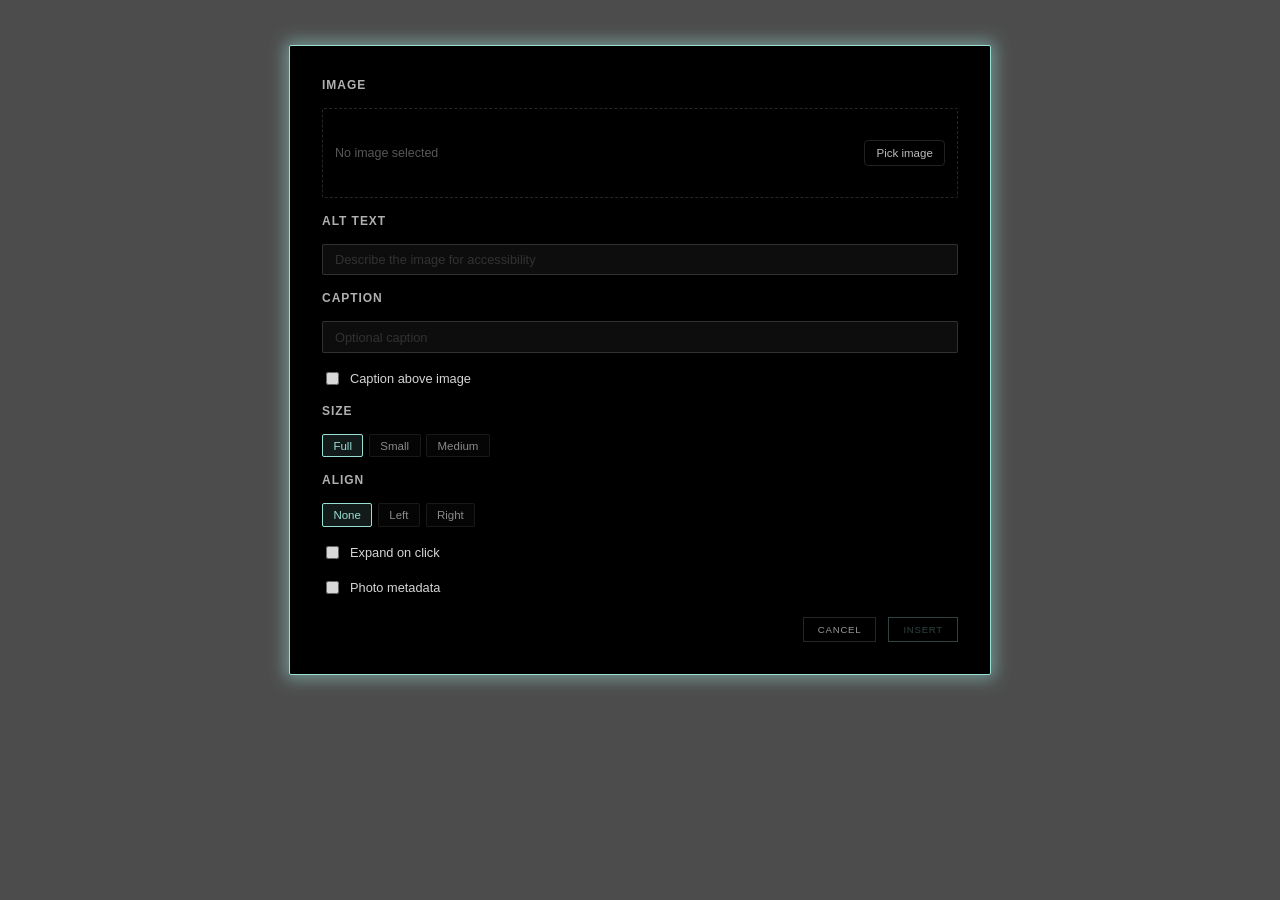
it: ImageInsertModal › shows photo meta inputs when checkbox checked
Click the checkbox with test id "photo-meta-checkbox": (332, 587) 326,581 -> 339,594
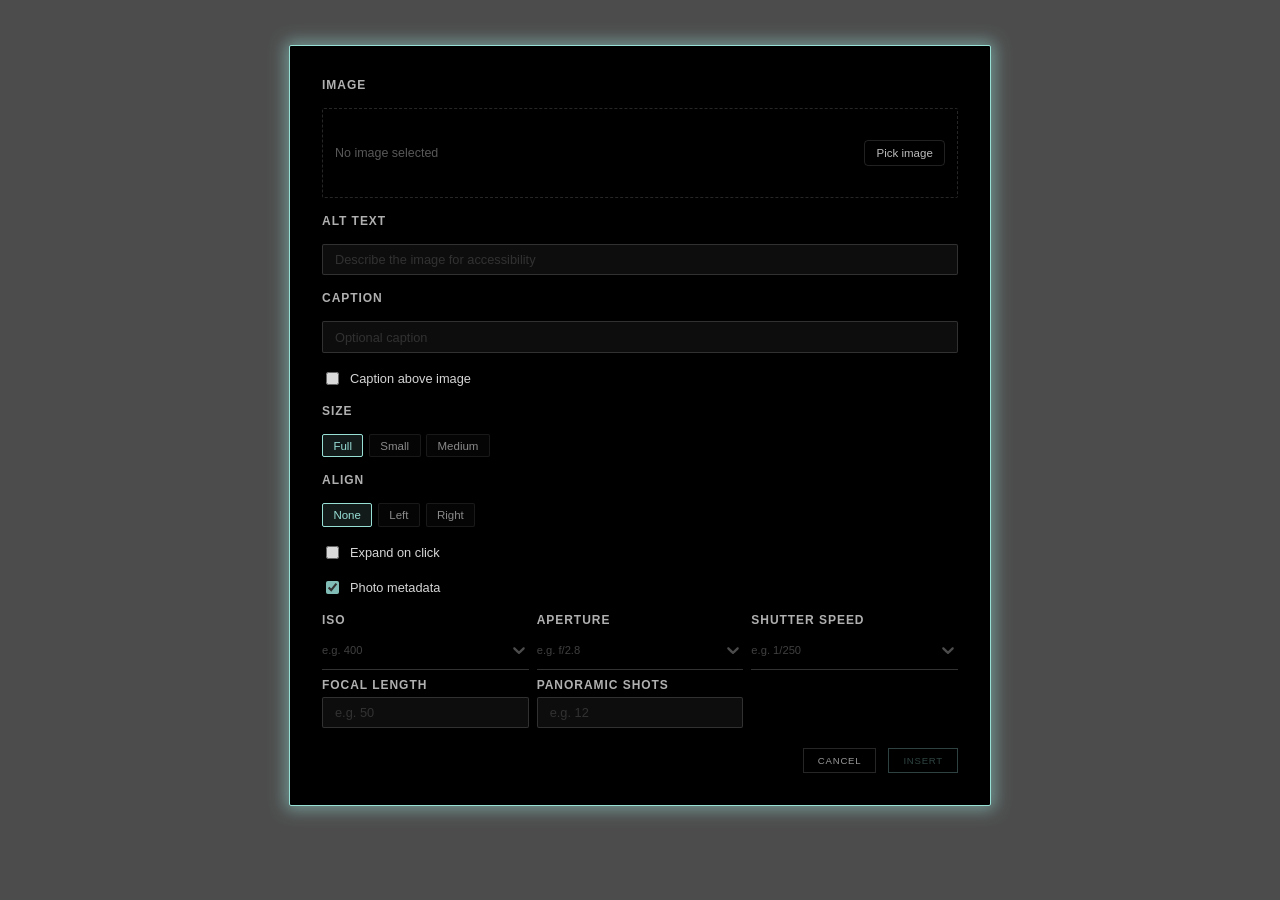
Check: the element with test id "photo-iso-input" is shown, box 322,632 -> 529,670
Check: the element with test id "photo-aperture-input" is shown, box 537,632 -> 743,670
Check: the element with test id "photo-exposure-input" is shown, box 751,632 -> 958,670
